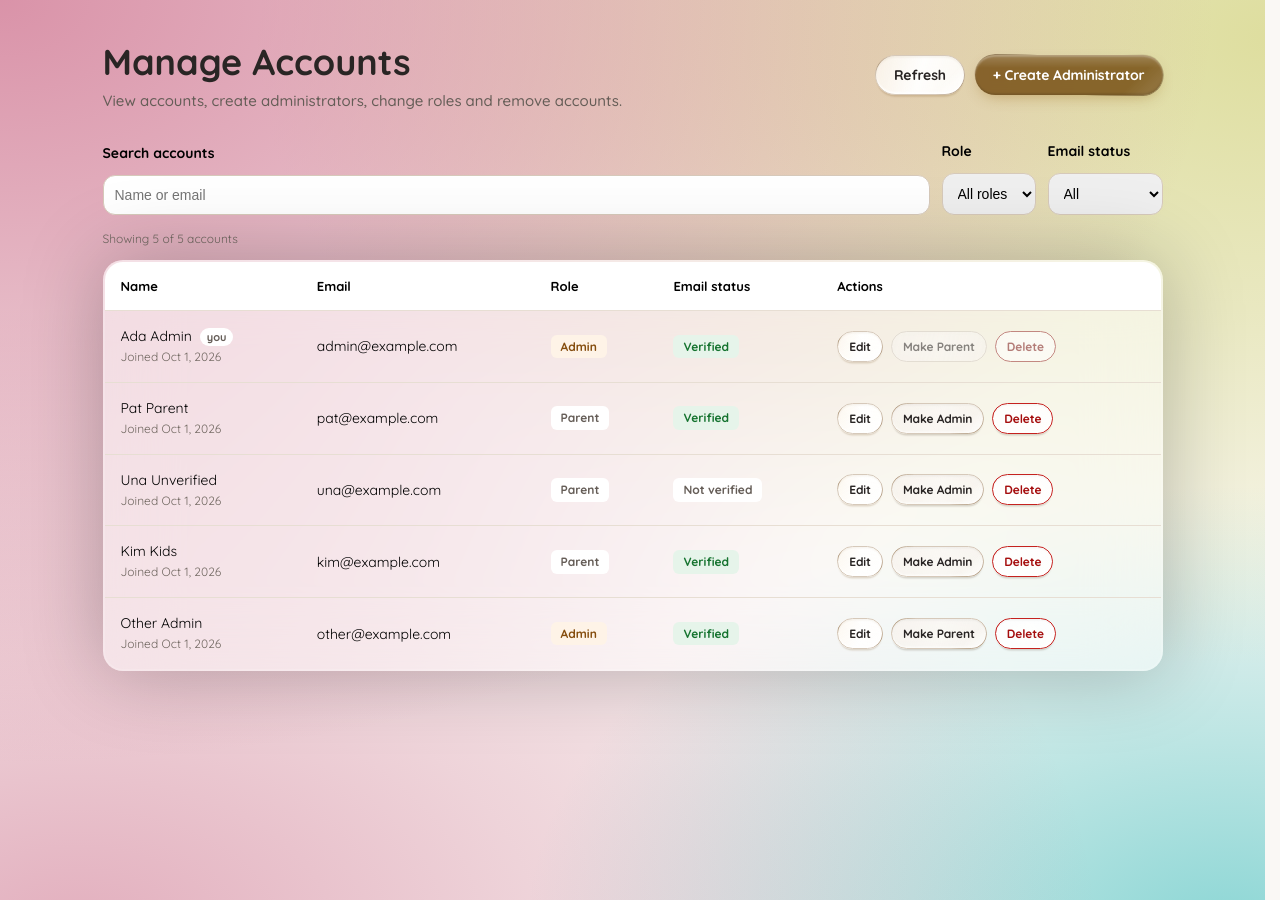
Manage Accounts: search and filters › filters by role and by email status, alone and together
Expected: the text "Pat Parent" is shown, [120, 399, 188, 417]
Select "Admins" in the dropdown labelled "Role" at point(988, 194), box [942, 173, 1036, 215]
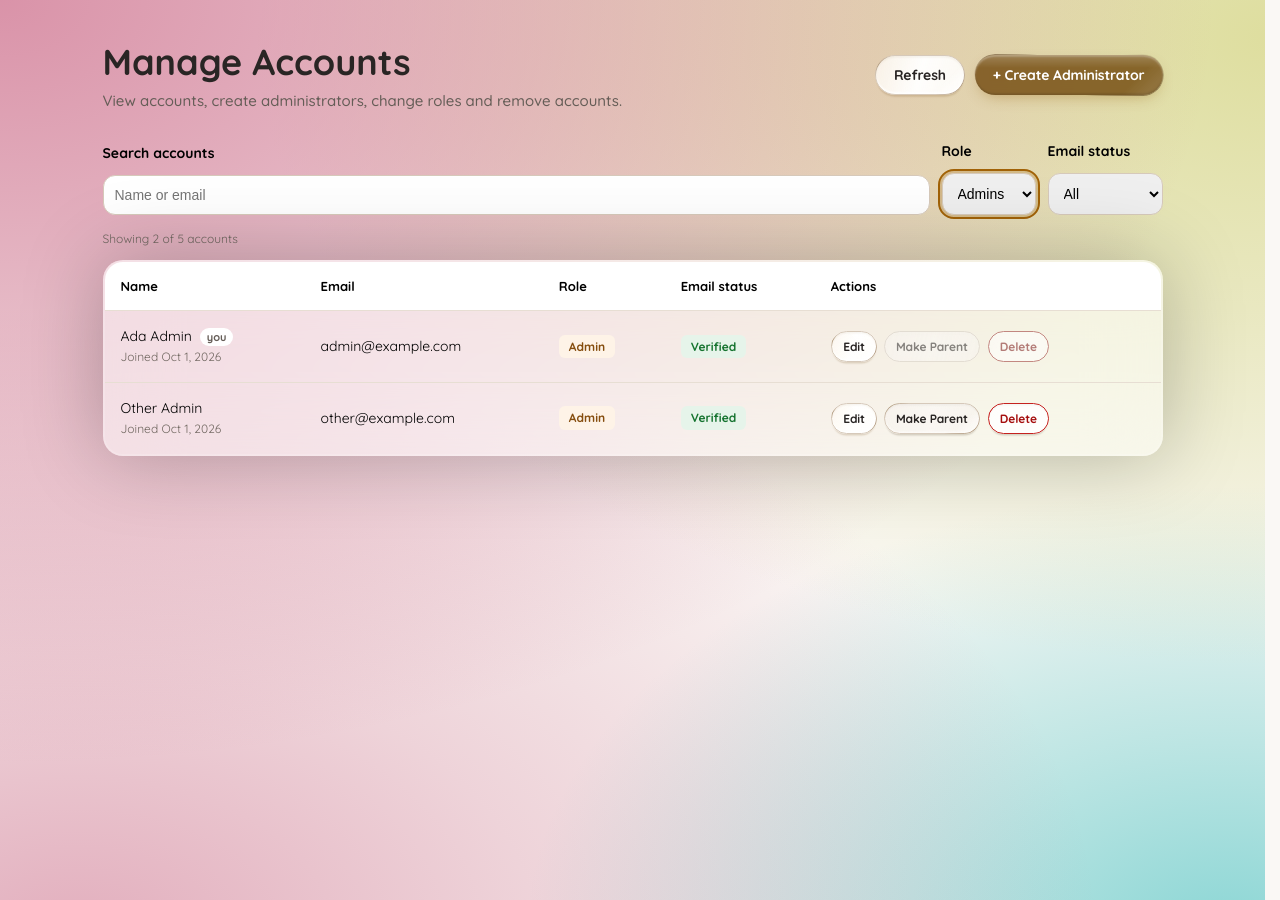
Expected: the text "Other Admin" is shown, [120, 399, 202, 417]
Expected: the text "Pat Parent" is gone
Select "Parents" in the dropdown labelled "Role" at point(988, 194), box [942, 173, 1036, 215]
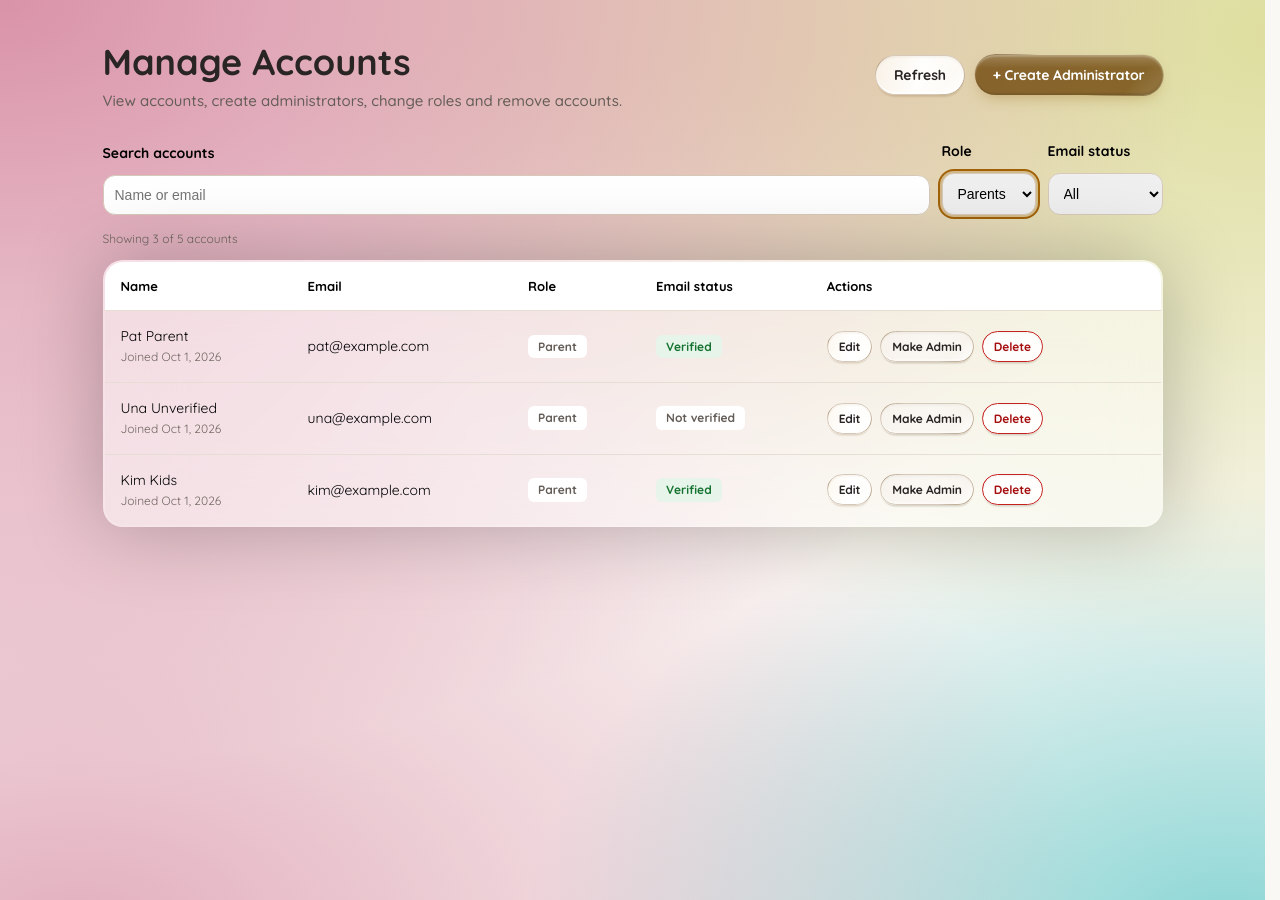
Select "Not verified" in the dropdown labelled "Email status" at point(1105, 194), box [1048, 173, 1162, 215]
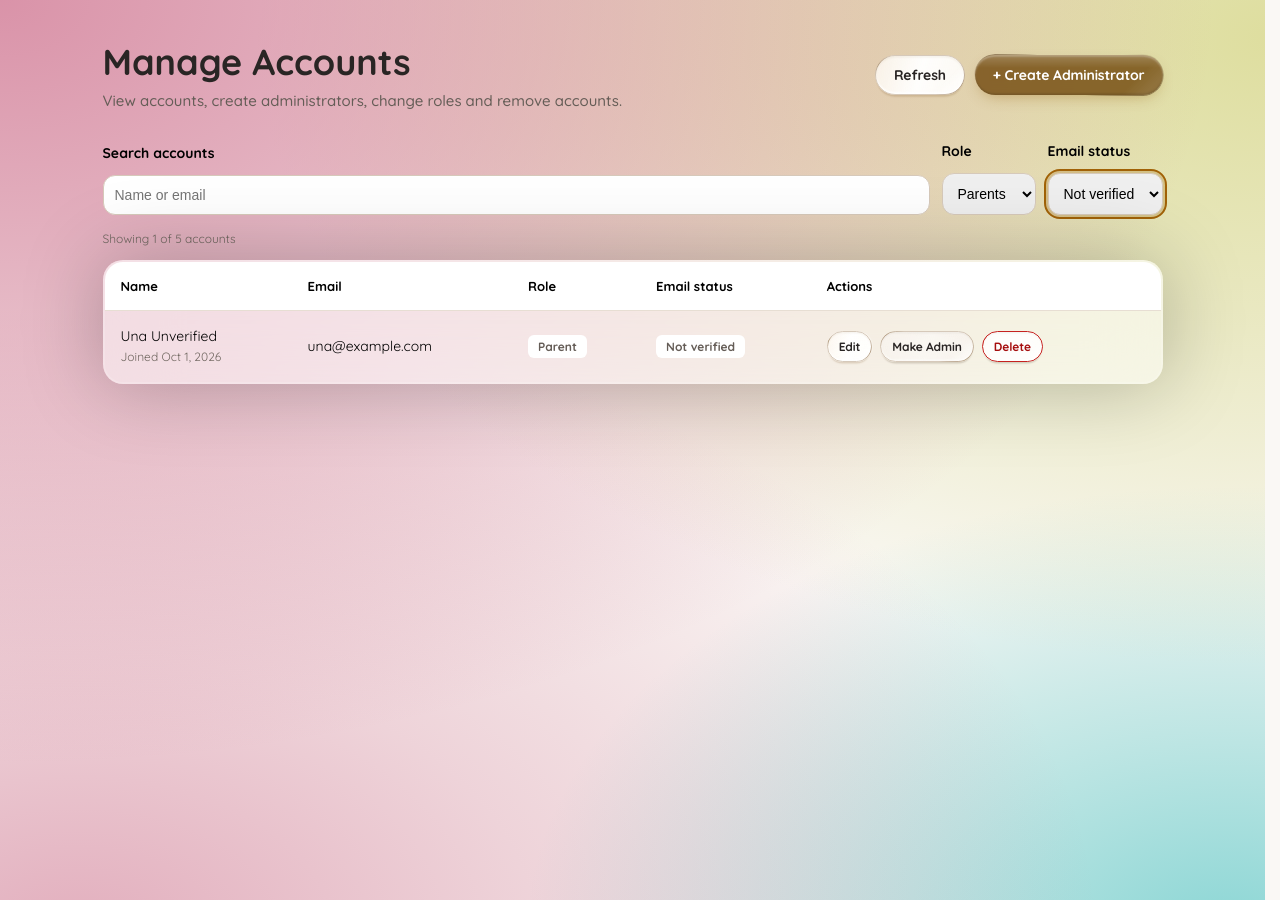
Expected: the text "Ada Admin" is not shown
Expected: the text "Una Unverified" is shown, [120, 327, 217, 345]
Expected: the text "Pat Parent" is gone
